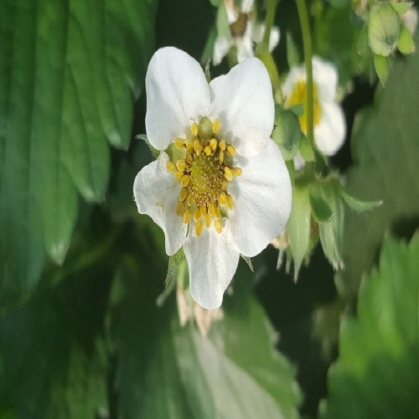Blossom_BT: (163, 128, 244, 301)
